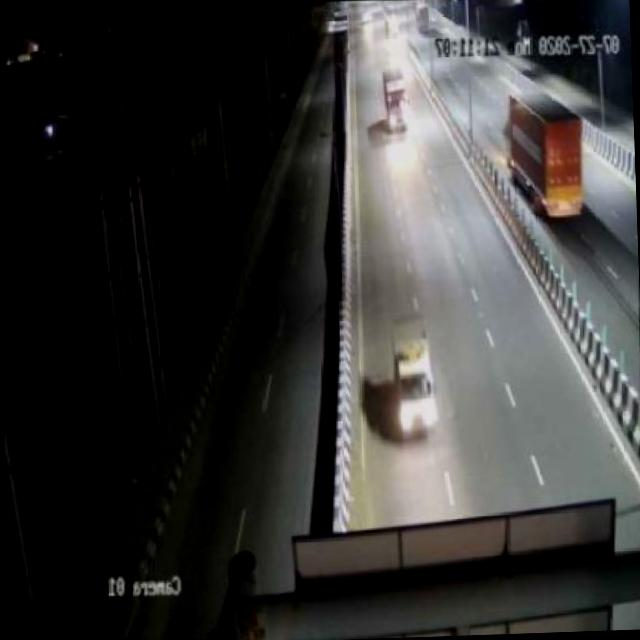car: (380, 310, 446, 432)
